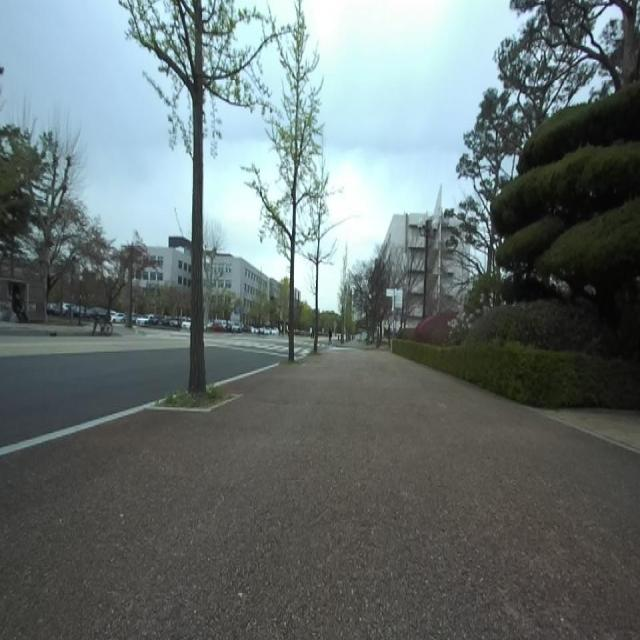sidewalk: (0, 346, 640, 638), (0, 402, 154, 456), (214, 364, 278, 385)
